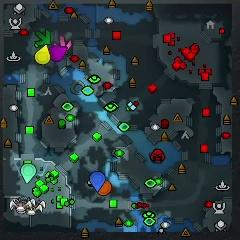p1: (89, 172, 106, 192)
p2: (21, 164, 36, 183)
p3: (49, 45, 68, 62)
p4: (35, 45, 50, 64)
p5: (98, 180, 112, 196)
x1: (53, 35, 72, 51)
x4: (34, 29, 52, 46)
